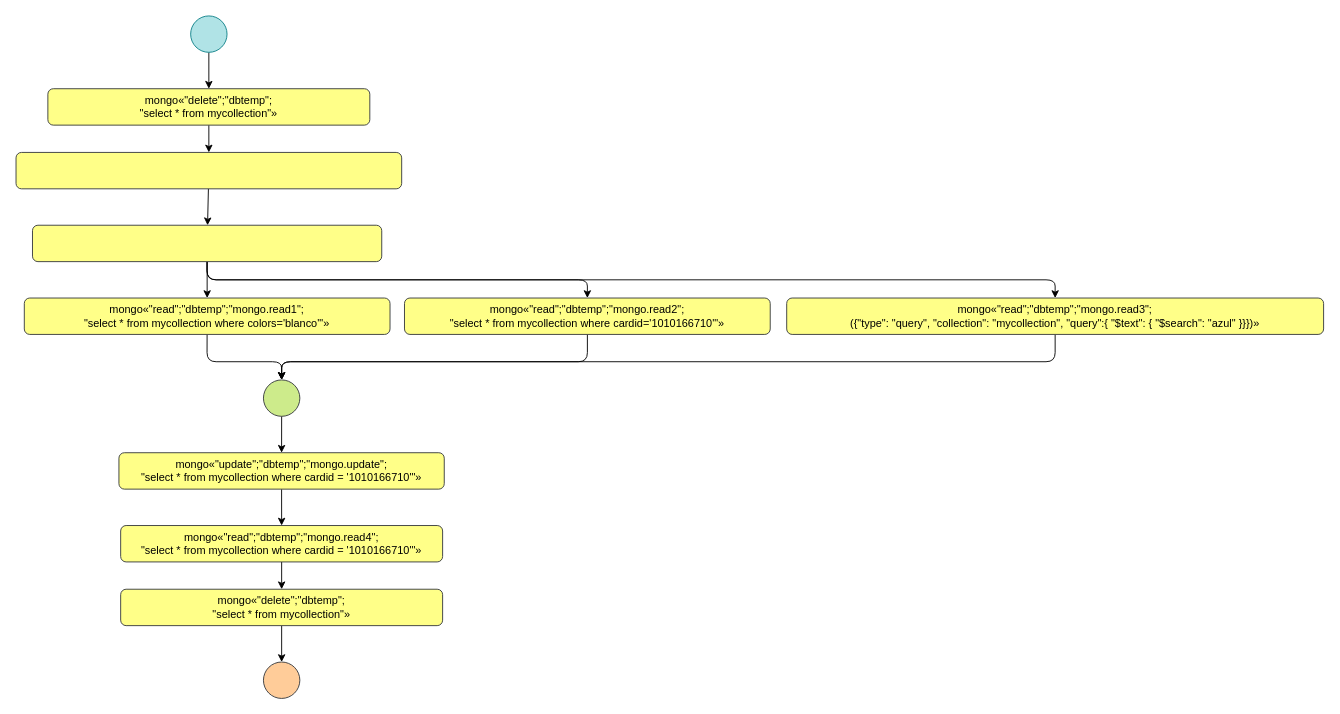
Image size: 1340x714. Some labels were removed from this diagram. Each missing label, with the centre of its shape:
end: (x=281, y=679)
mongo«"index";"dbtemp";"mycollection";"mongo.config.indexes"»: (x=208, y=170)
mongo«"write";"dbtemp";"mycollection";"mongo.insert"»: (x=207, y=243)
start: (x=208, y=33)
